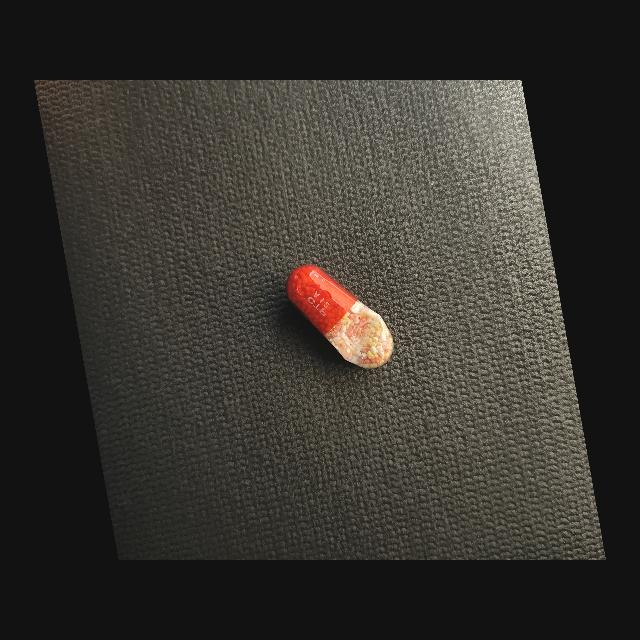Defective Capsule: (286, 265, 394, 369)
